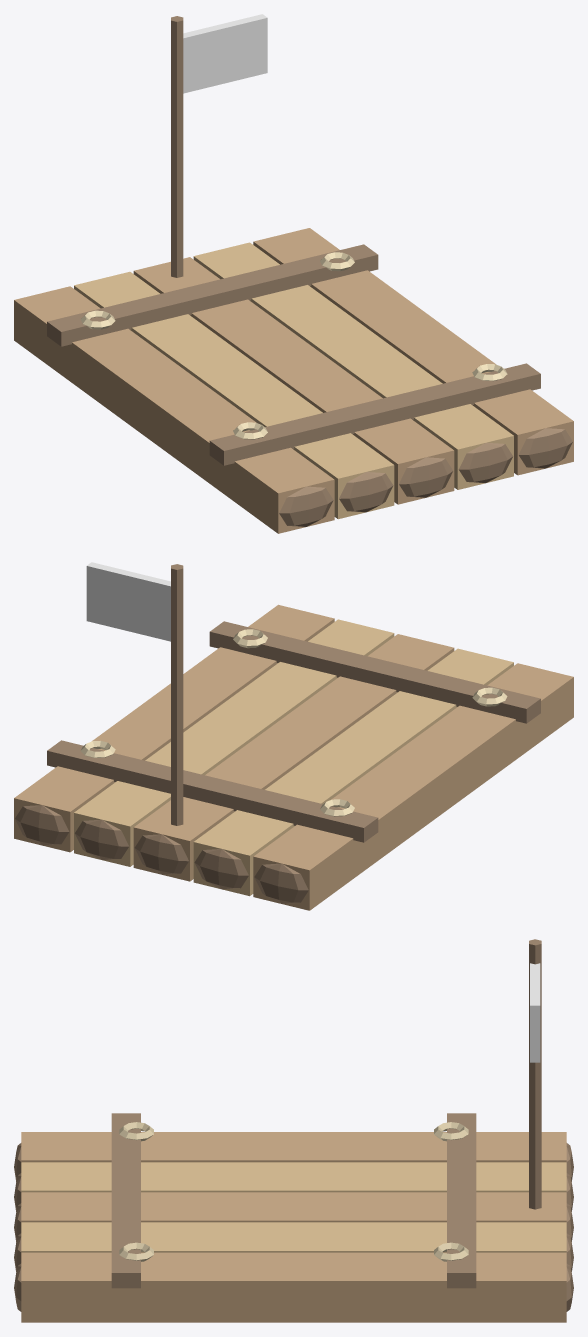
Rendered from balsa.glb.
3 renders of one model, top to bottom at view 1: azimuth 30°, elevation 25°; view 2: azimuth 150°, elevation 25°; view 3: azimuth 270°, elevation 25°, orthographic. The views are drawn at different scales.
Parts seen in each view (by area): view 1: balsa; view 2: balsa; view 3: balsa.
Boxes of the visible parts, box(x1,y1,x2,y2) form: balsa: box(14, 14, 573, 533); balsa: box(14, 562, 573, 910); balsa: box(14, 939, 573, 1322).
Bounding box in the file's own units: 1.8 × 1.61 × 2.67.
